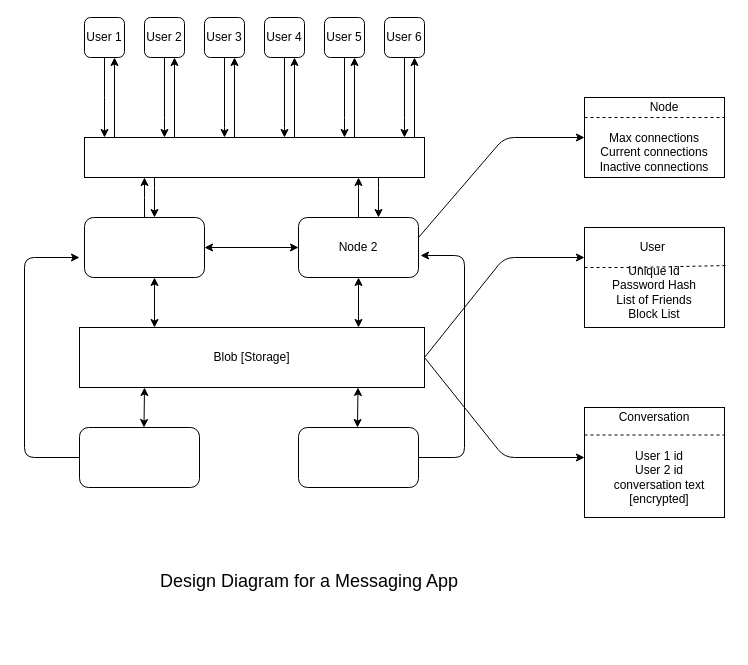
Image size: 748x665. Some labels were removed from this diagram. The centre of each missing label's shape, as x and y in pixels:
Gesture Recognizer: the point at 139,457
Hate speech detector: the point at 358,457
Load Balancer: the point at 254,157
Node 1: the point at 144,247
